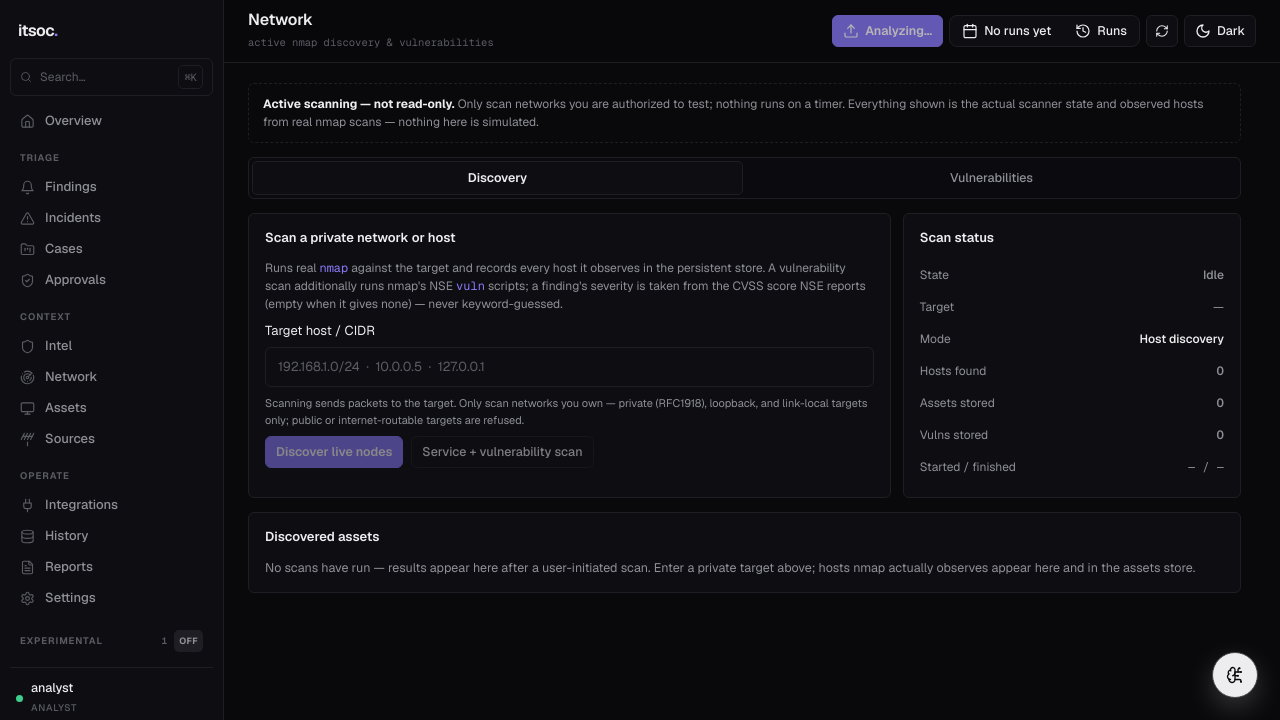
Test case: Discovery — nmap scan control panel › surfaces a refused public target as the backend's honest error
This screenshot has width=1280, height=720.
Type "8.8.8.8" into the field named "target host or cidr".
click(569, 367); type("8.8.8.8")  # box [265, 347, 874, 387]
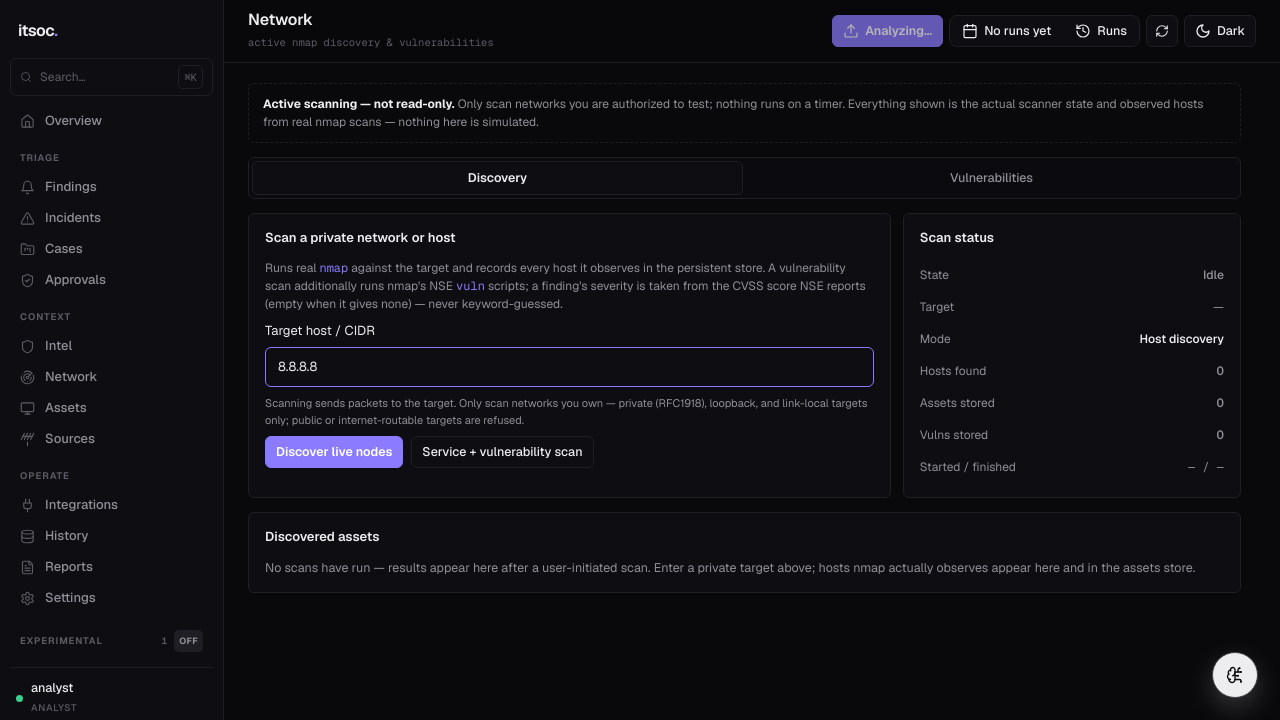
Click the button "Discover live nodes".
click(334, 452)  # box [265, 436, 403, 468]
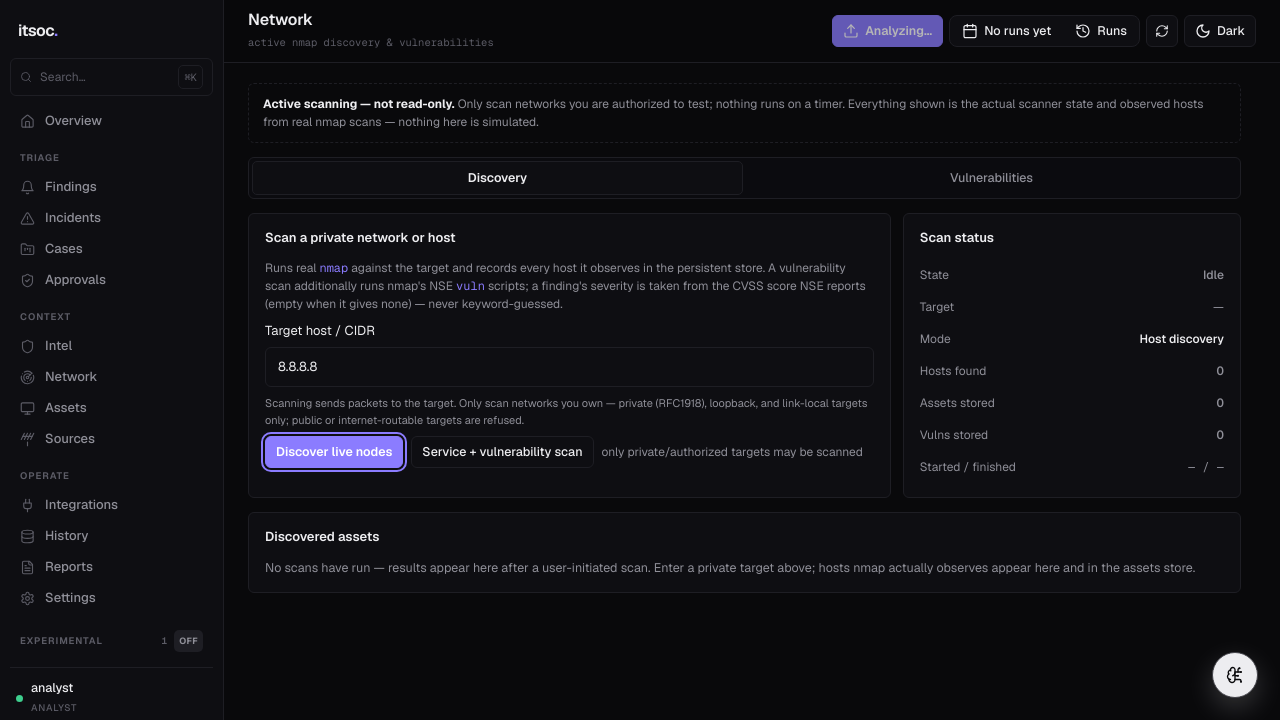
Now the text "only private/authorized targets may be scanned" is shown, box [602, 442, 863, 462]
